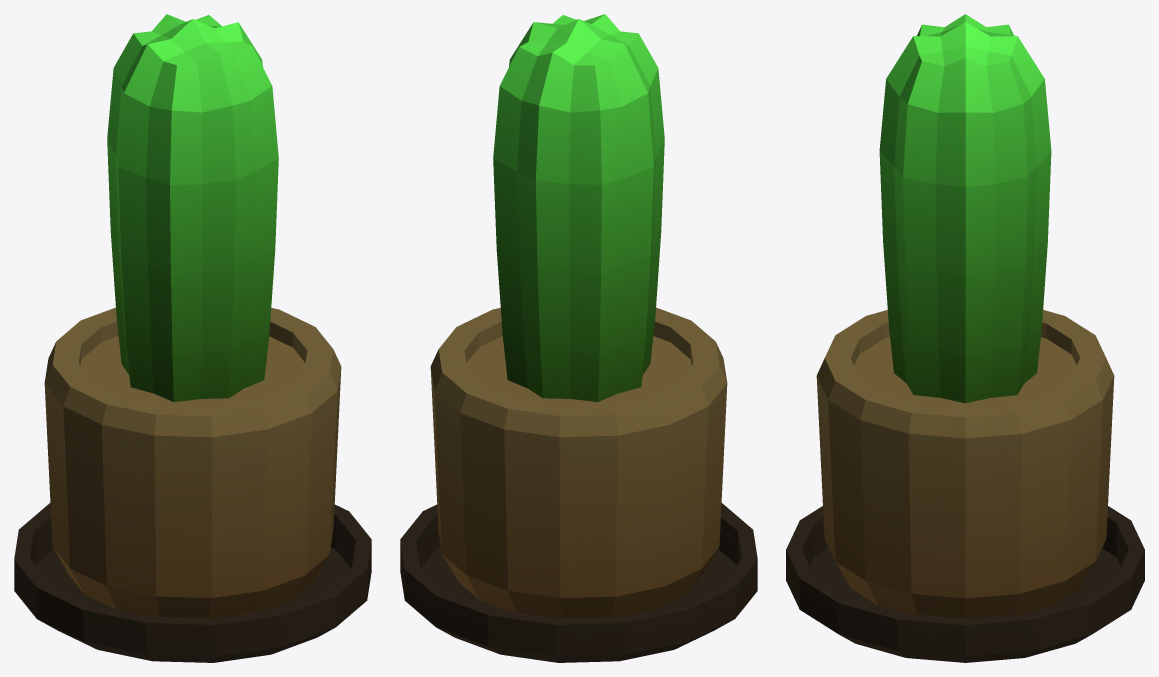
The model's file is SM_CactusInPot.fbx.
3 renders of one model, left to right at view 1: azimuth 30°, elevation 25°; view 2: azimuth 150°, elevation 25°; view 3: azimuth 270°, elevation 25°, orthographic.
Parts seen in each view (by area): view 1: SM_CactusInPot; view 2: SM_CactusInPot; view 3: SM_CactusInPot.
Part boxes in pixels (x1,y1,x2,y2): SM_CactusInPot: [14, 14, 371, 662]; SM_CactusInPot: [400, 14, 757, 662]; SM_CactusInPot: [786, 14, 1144, 662].
Bounding box in the file's own units: 289 × 512 × 289.
